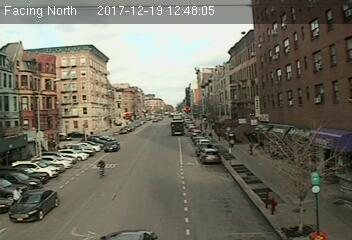bicycle: (94, 159, 106, 178)
car: (11, 189, 60, 223), (199, 147, 219, 163)
ups: (170, 121, 184, 135)
